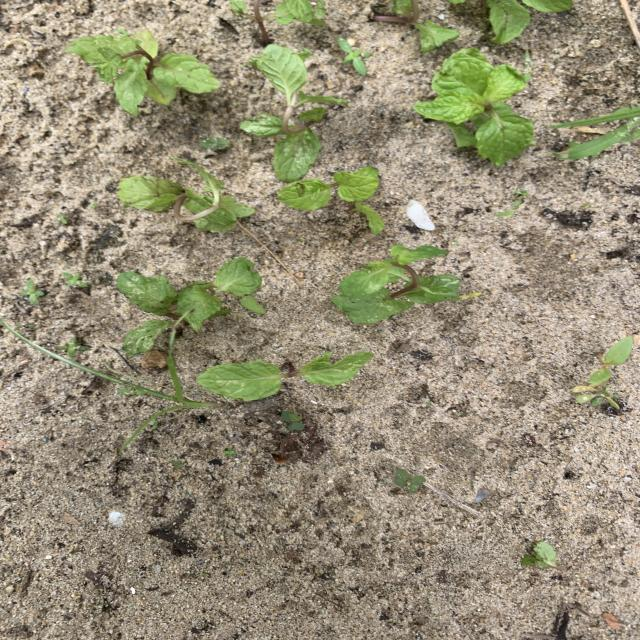crop: (241, 45, 347, 179), (414, 49, 534, 165), (65, 28, 218, 114), (117, 264, 260, 355), (332, 244, 460, 323), (119, 160, 255, 231), (198, 351, 371, 399), (279, 167, 382, 233), (376, 1, 458, 51), (231, 0, 270, 41), (276, 1, 326, 25)
weed: (3, 322, 211, 407), (553, 109, 639, 159), (551, 106, 640, 128), (591, 337, 632, 382), (572, 382, 619, 408), (338, 39, 370, 74), (496, 190, 527, 215), (394, 469, 424, 491), (20, 279, 43, 303), (57, 338, 87, 355), (281, 411, 303, 431), (200, 137, 228, 151), (62, 272, 87, 287), (58, 215, 67, 223), (224, 449, 235, 455)
